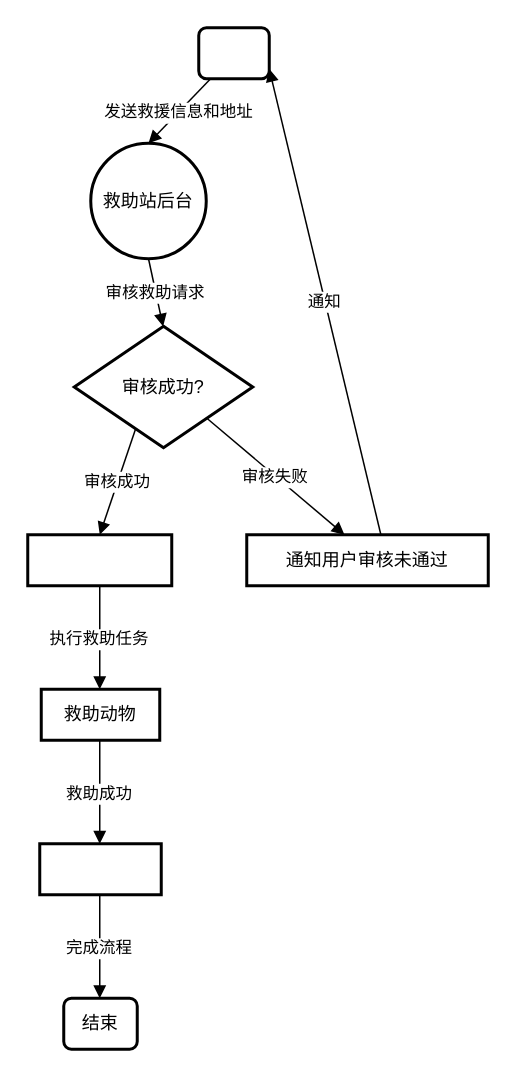
Image size: 515x1076. Some labels were removed from this diagram. Each missing label, with the centre of its shape:
派送救助员: pixel 99 559
用户: pixel 233 53
登记入住: pixel 100 869
